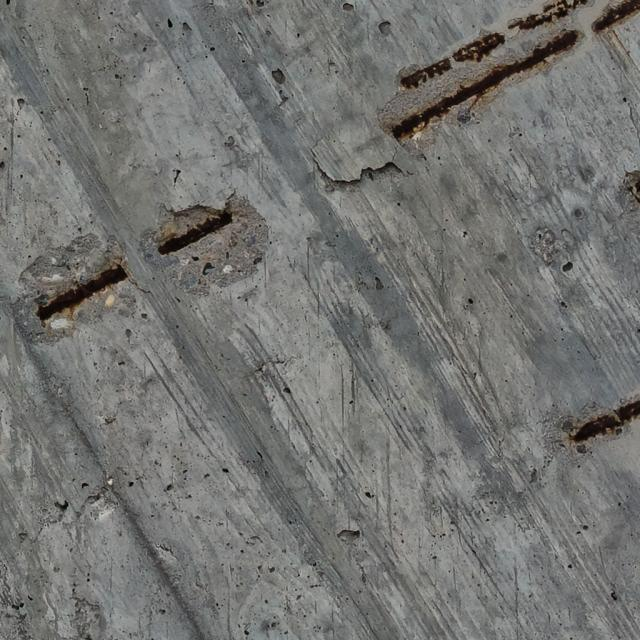D0w0: (394, 39, 569, 141), (38, 266, 129, 321), (158, 214, 231, 257), (574, 398, 639, 441)
